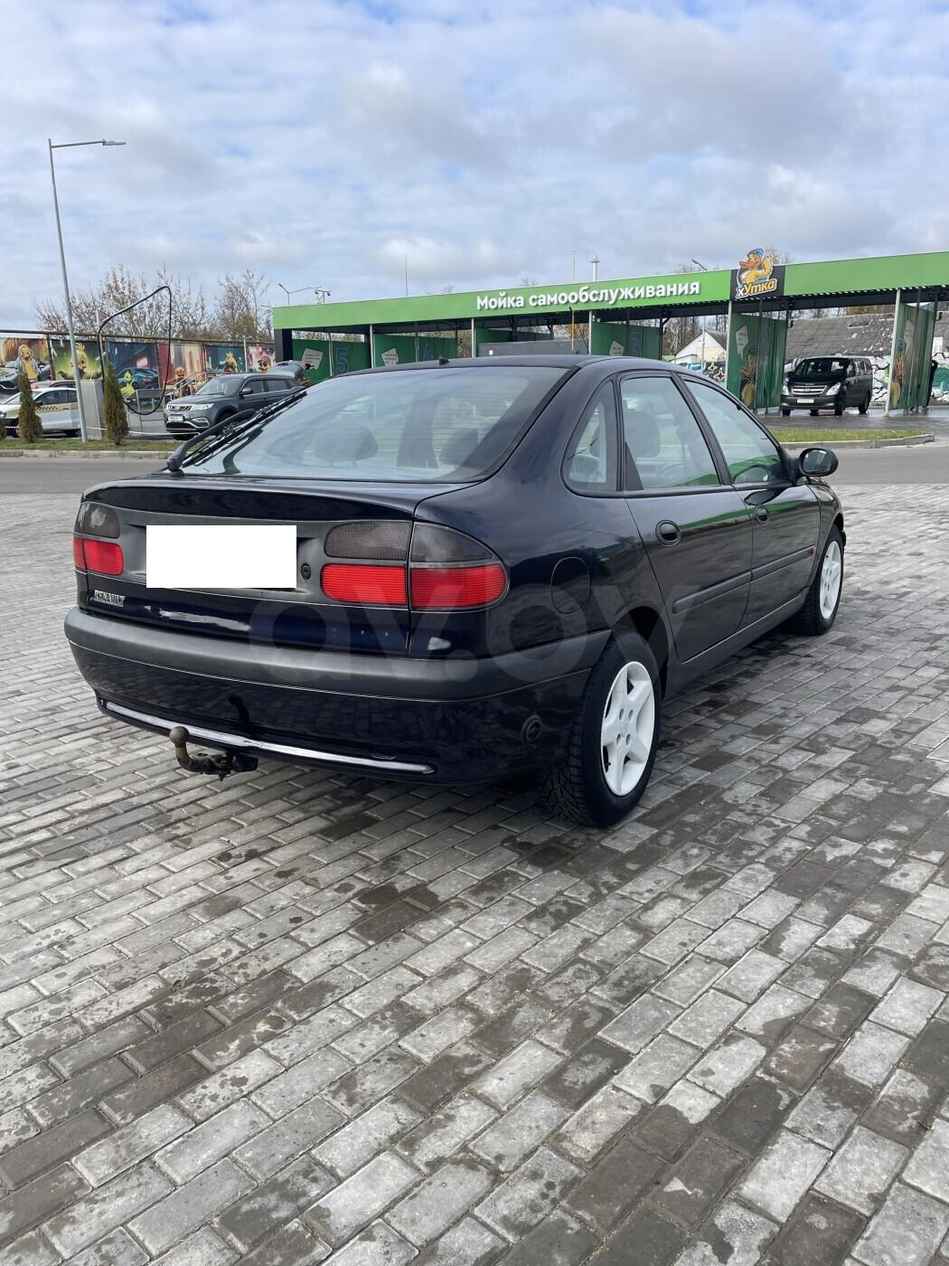Lahuna_1993-1999: (63, 349, 855, 830)
